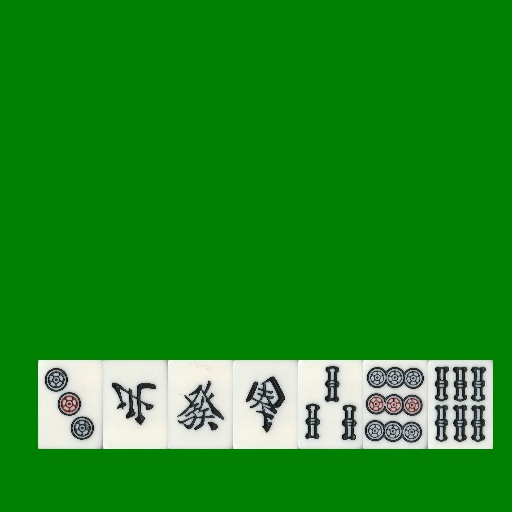3p: (38, 360, 103, 449)
3s: (298, 360, 363, 449)
6s: (428, 360, 493, 449)
9p: (363, 360, 428, 449)
hatsu: (168, 360, 233, 449)
north: (103, 360, 168, 449)
south: (233, 360, 298, 449)
